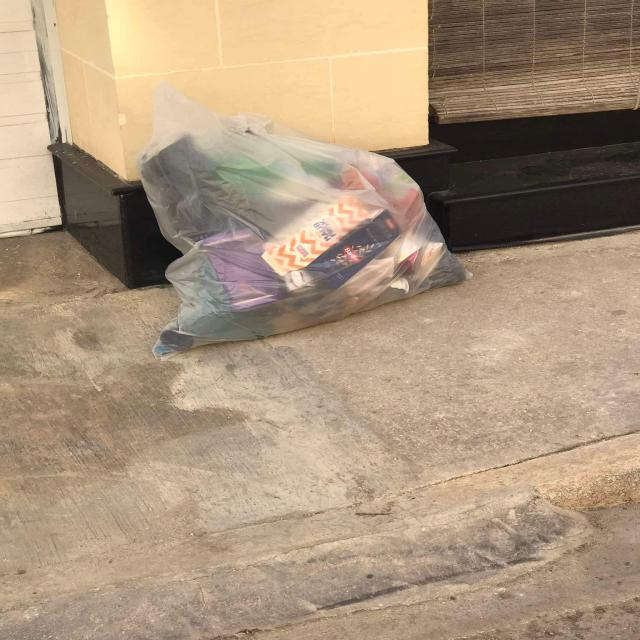Recycled Waste -Grey or Green Bag-: (136, 82, 472, 360)
